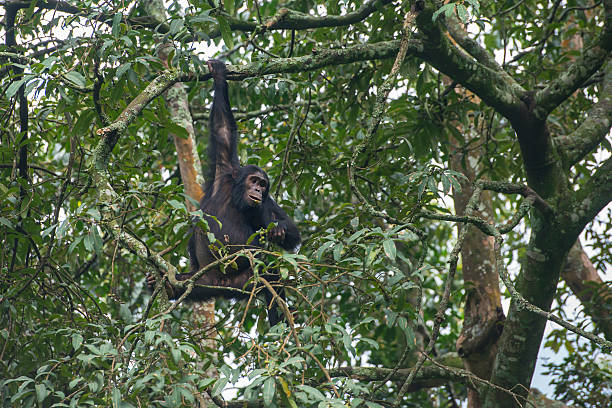chimpanzee: (225, 159, 275, 225)
